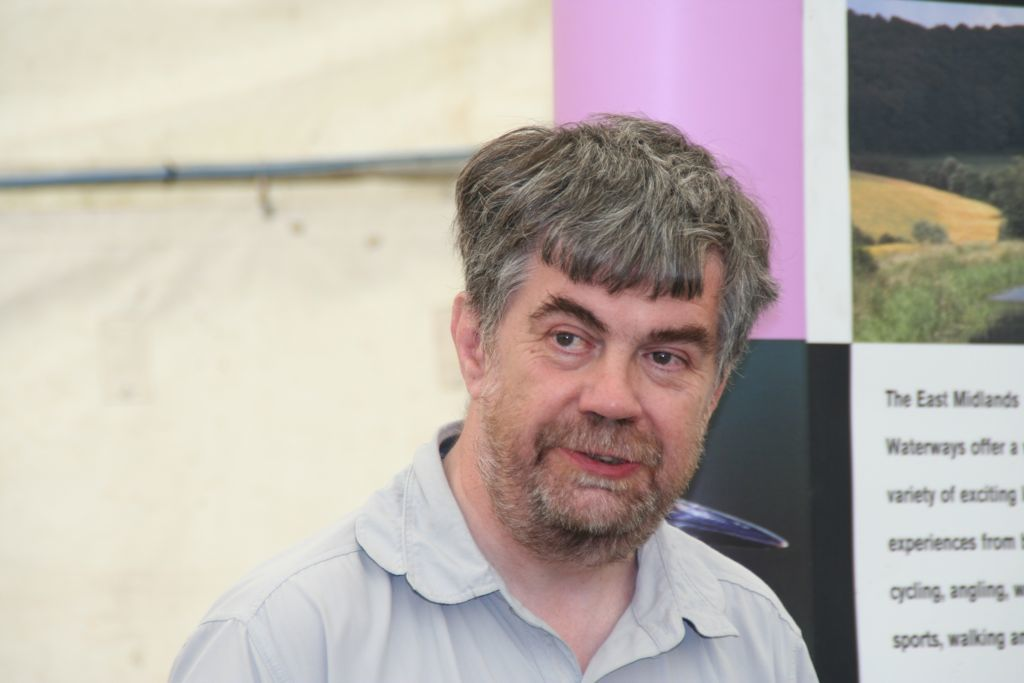Tree: (833, 0, 1022, 140), (849, 251, 1018, 343), (849, 153, 1022, 242)
